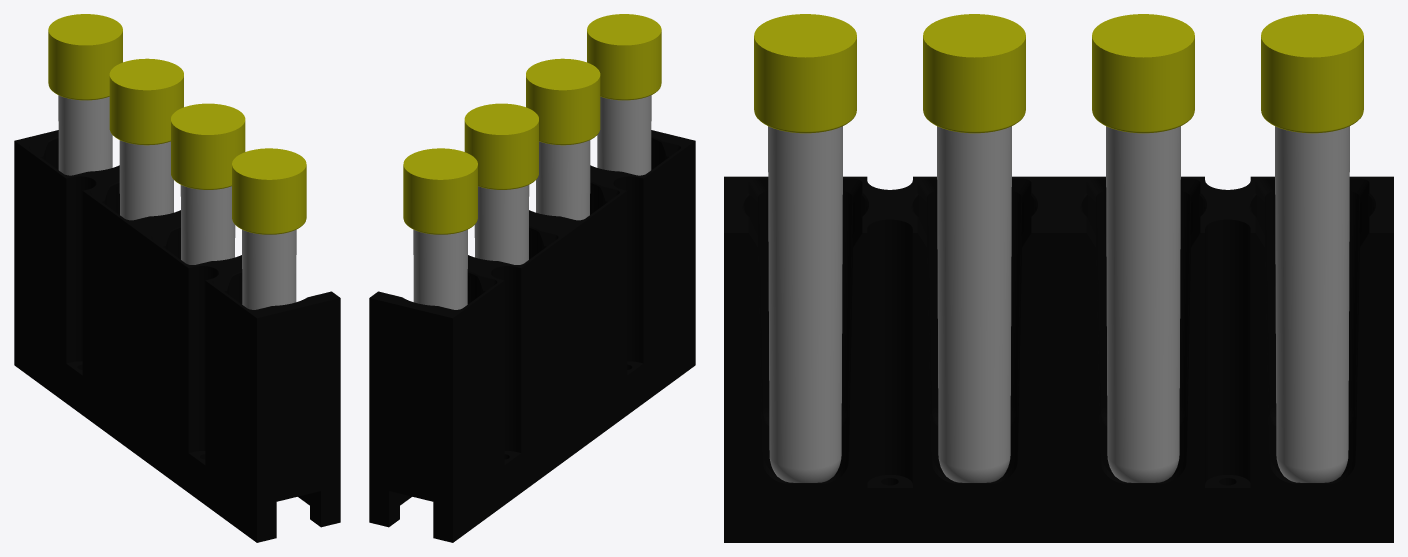
Rendered from 4x_QFT.gltf.
3 views of the same model, side by side, from view 1: azimuth 30°, elevation 25°; view 2: azimuth 150°, elevation 25°; view 3: azimuth 270°, elevation 25° (orthographic). The views are drawn at different scales.
Visible parts, largest first — view 1: Frame_body_1_0; view 2: Frame_body_1_0; view 3: Frame_body_1_0.
Part boxes in pixels (x1=…): Frame_body_1_0: x1=14, y1=14, x2=340, y2=542; Frame_body_1_0: x1=369, y1=14, x2=695, y2=542; Frame_body_1_0: x1=724, y1=14, x2=1393, y2=542.
Size of the model in its own units: 22 by 87.29 by 111.
